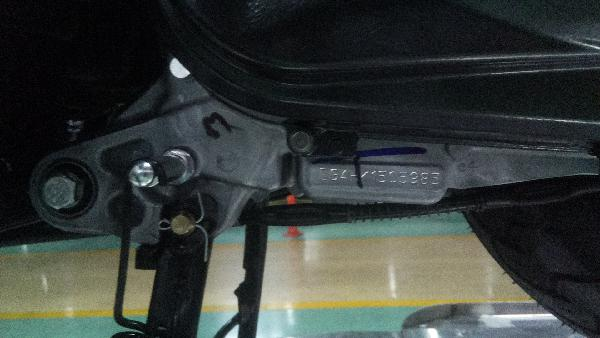box: (318, 167, 440, 187)
